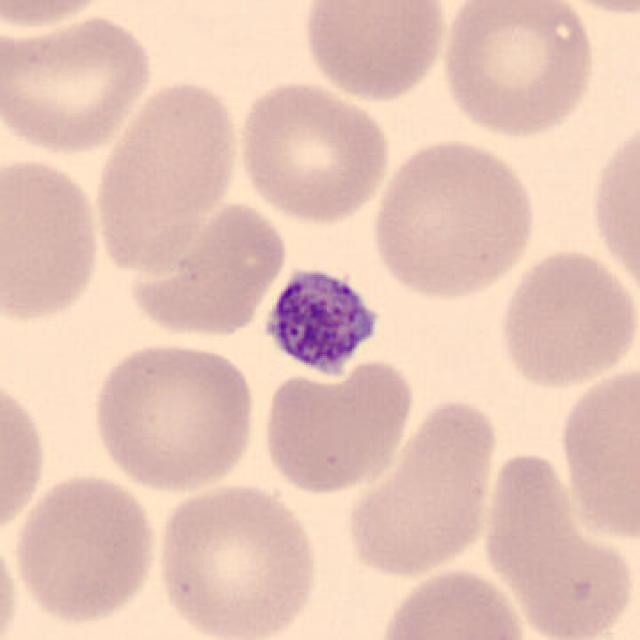Platelets: (260, 262, 388, 382)
RBC: (87, 74, 244, 277), (340, 393, 503, 582), (367, 134, 540, 303), (149, 479, 321, 640), (86, 337, 260, 495), (121, 196, 291, 340), (9, 469, 162, 628), (233, 78, 393, 228), (435, 0, 601, 141), (0, 9, 158, 157), (256, 356, 418, 497), (482, 506, 638, 640), (494, 245, 636, 391), (0, 152, 107, 328), (298, 0, 452, 104), (554, 359, 640, 544), (374, 564, 534, 640), (587, 113, 638, 308), (0, 366, 52, 546), (0, 0, 121, 33), (0, 522, 23, 640), (542, 0, 638, 18)
